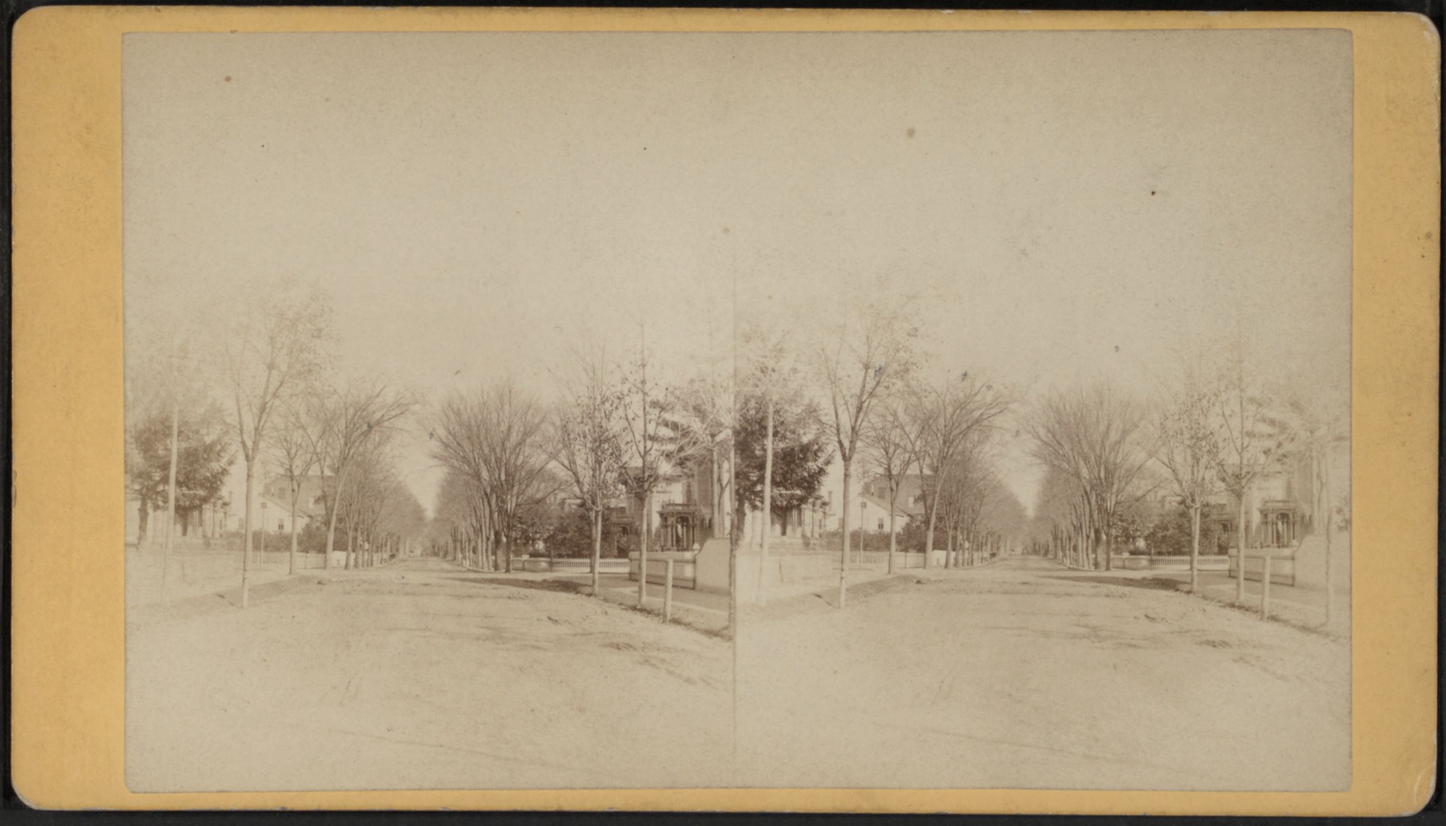half_image: (734, 29, 1354, 792), (123, 32, 733, 793)
